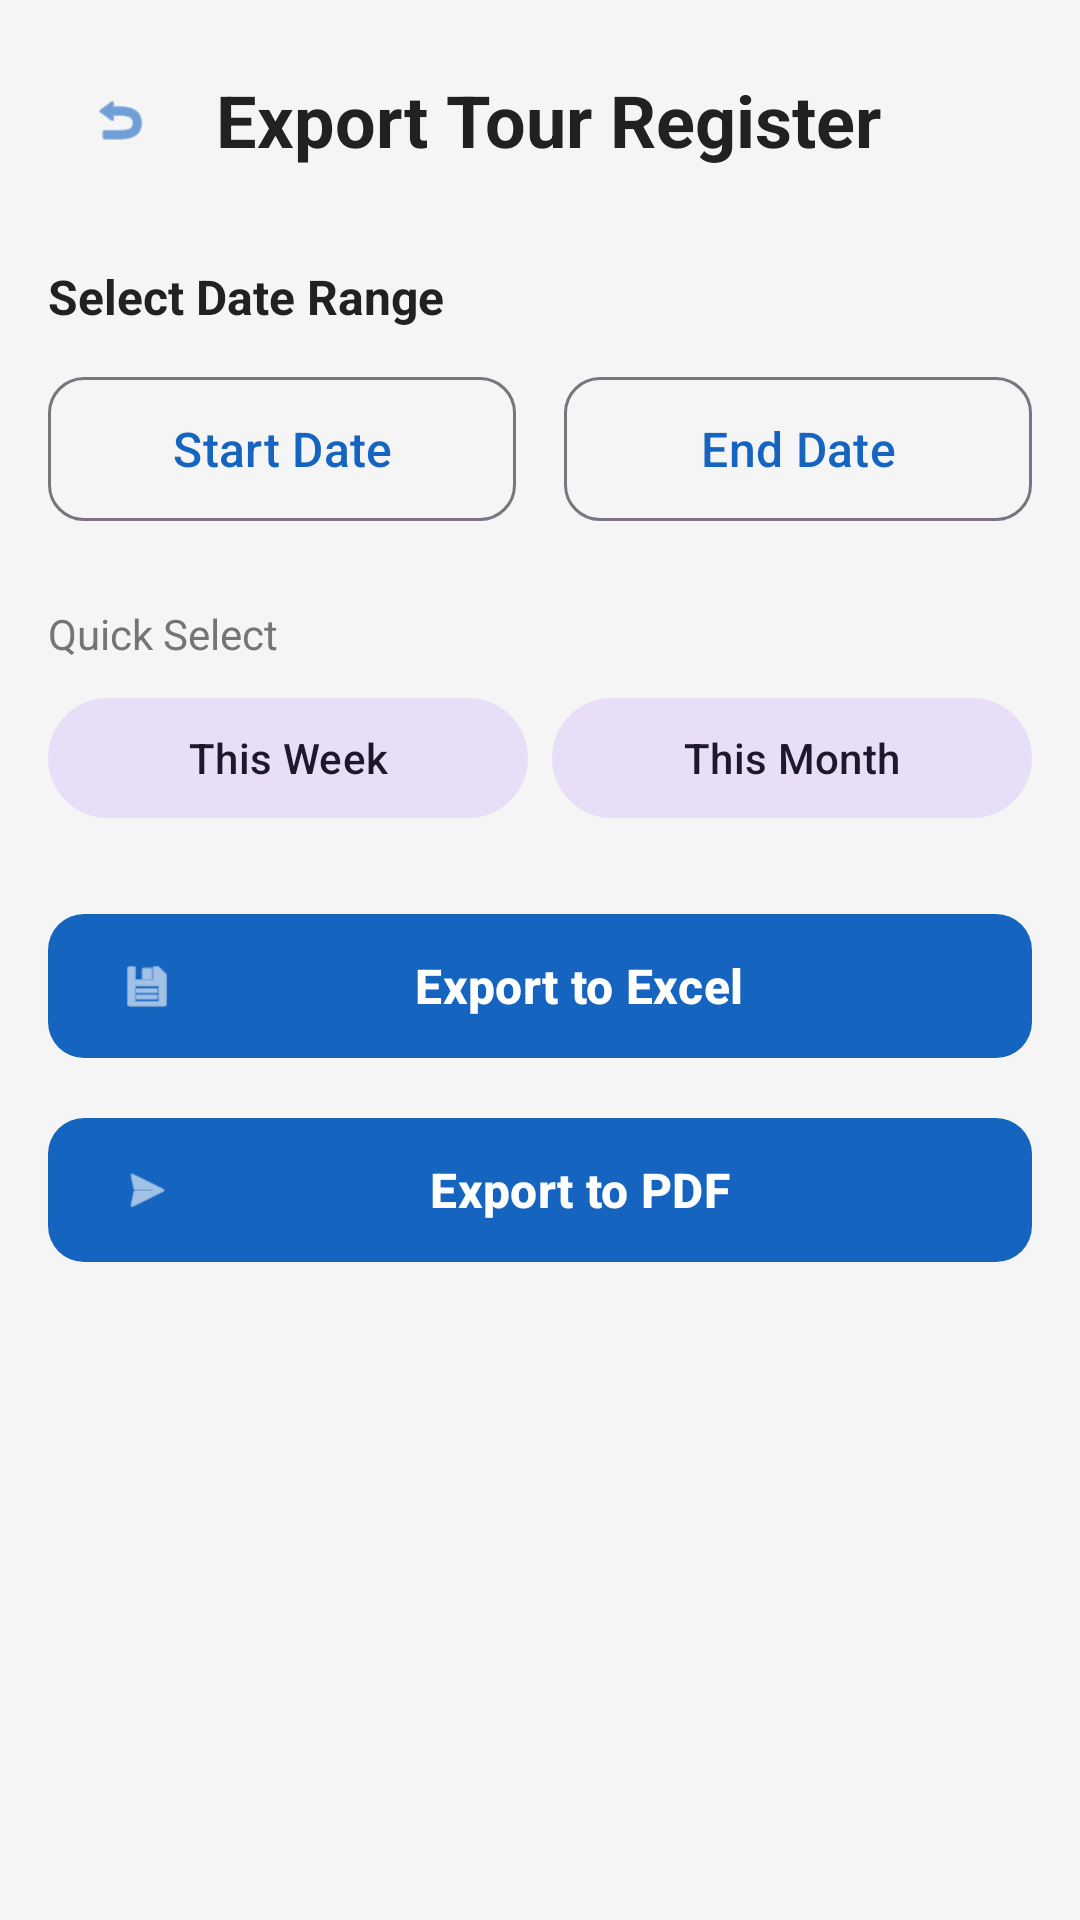

Named icons in this screenshot (1080×1920) and their bounding boxes, (x1, y1, x2, y2):
revert: (99, 101, 142, 140)
